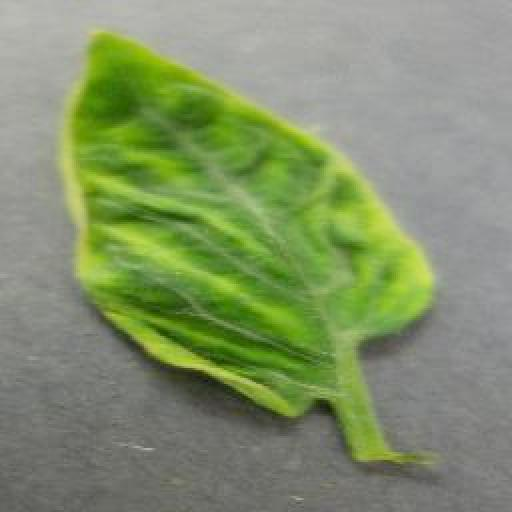disease_tomato: (62, 27, 438, 417)
